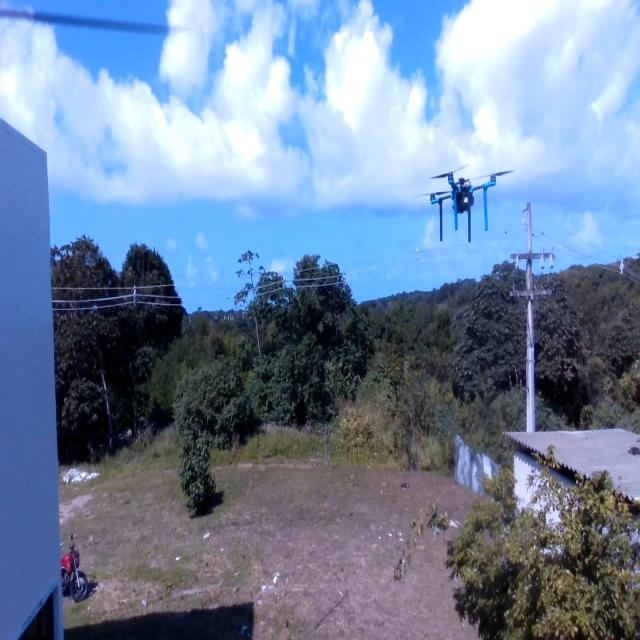-uav-: (415, 156, 518, 252)
